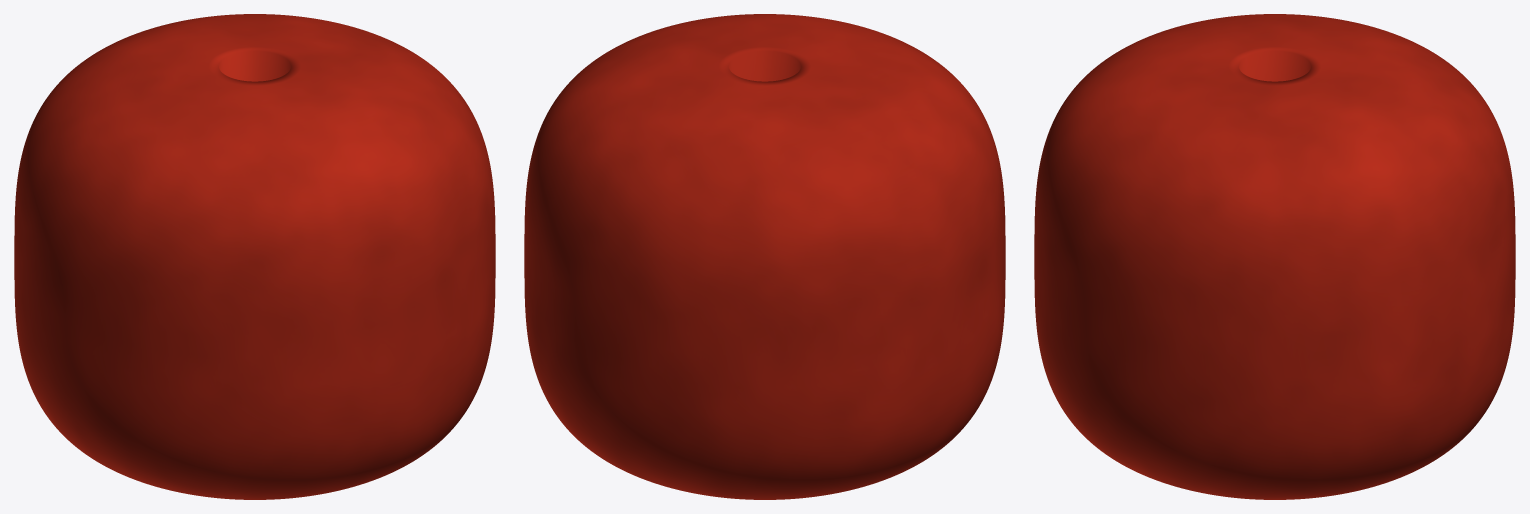
Rendered from old-barrel.glb.
3 views of the same model, side by side, from view 1: azimuth 30°, elevation 25°; view 2: azimuth 150°, elevation 25°; view 3: azimuth 270°, elevation 25° (orthographic).
Parts seen in each view (by area): view 1: 老型桶珠; view 2: 老型桶珠; view 3: 老型桶珠.
Boxes of the visible parts, x1,y1,x2,y2 form: 老型桶珠: (14,14,495,499); 老型桶珠: (524,14,1005,499); 老型桶珠: (1034,14,1515,499).
Size of the model in its own units: 0.008 by 0.007 by 0.008.
